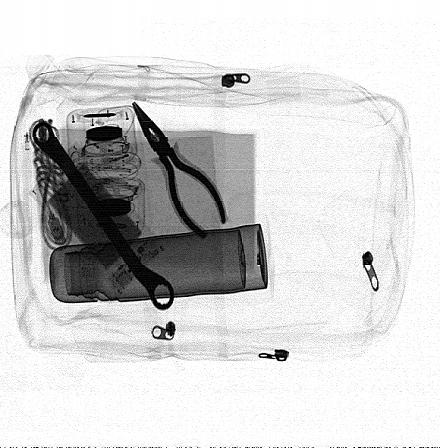Pliers: (130, 98, 227, 238)
Powerbank: (30, 145, 166, 298)
Wrench: (32, 120, 175, 312)
